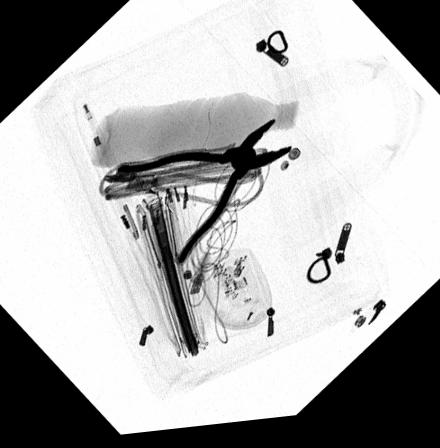Pliers: (112, 124, 293, 269)
